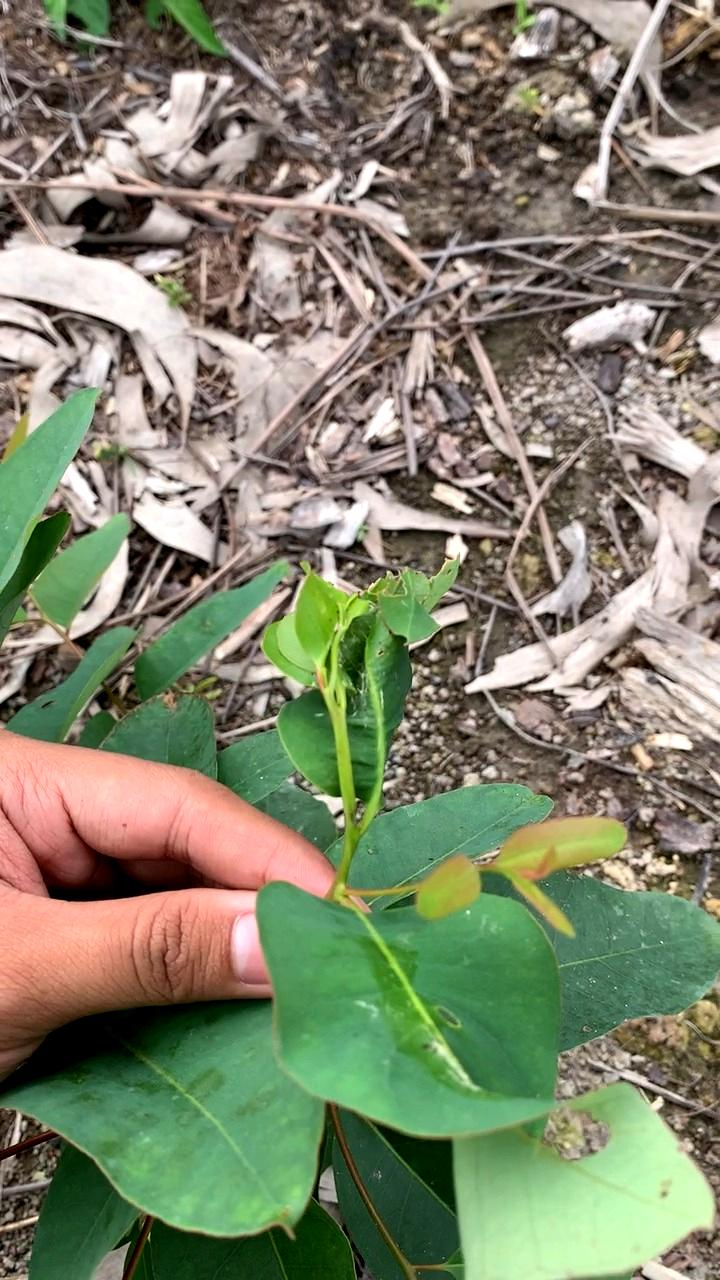Leaf Roller - Leaf: (259, 551, 465, 802)
